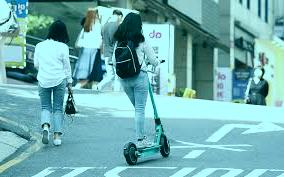nonhelmet: (112, 12, 173, 167)
